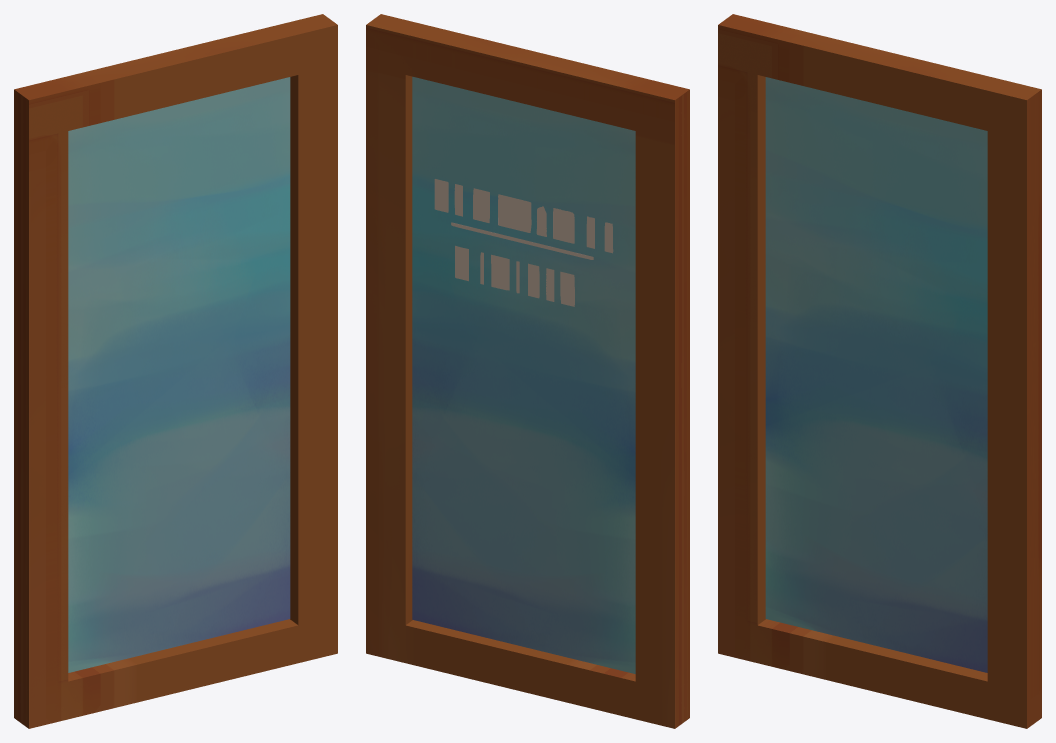
Rendered from Door.fbx.
The picture shows the model from 3 angles, left to right: view 1: azimuth 30°, elevation 25°; view 2: azimuth 150°, elevation 25°; view 3: azimuth 330°, elevation 25°; orthographic projection.
Visible parts, largest first — view 1: Cube.039_Cube.001; view 2: Cube.039_Cube.001; view 3: Cube.039_Cube.001.
Part boxes in pixels (x1,y1,x2,y2): Cube.039_Cube.001: [14, 14, 337, 728]; Cube.039_Cube.001: [366, 14, 689, 728]; Cube.039_Cube.001: [718, 14, 1041, 728].
Bounding box in the file's own units: 309 × 601 × 25.81.
